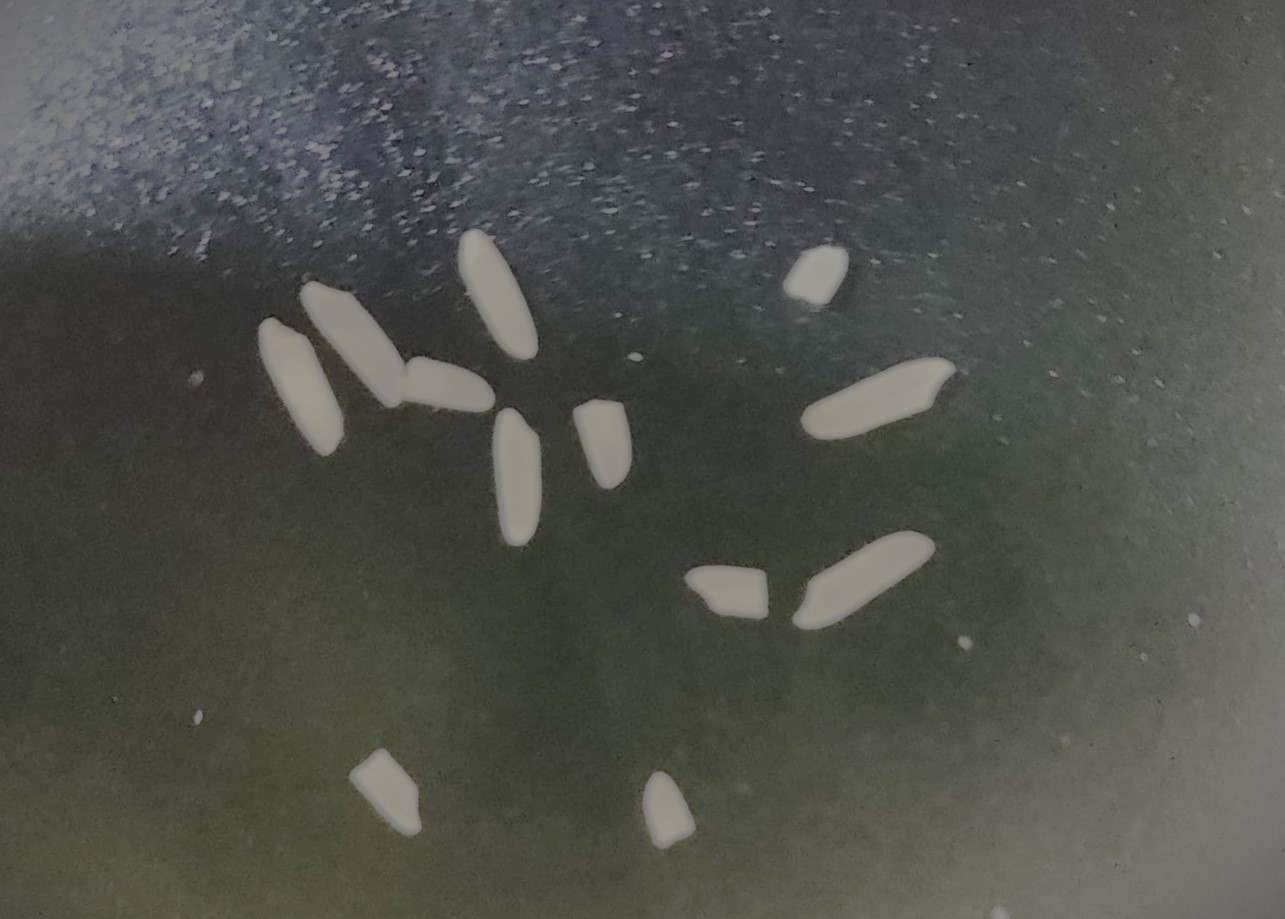broken_grain: (343, 743, 427, 840), (571, 396, 643, 500), (404, 351, 496, 425), (678, 561, 778, 629), (778, 237, 853, 314), (641, 767, 703, 855)
complete_grain: (787, 349, 963, 444), (250, 316, 354, 463), (298, 276, 409, 410), (790, 531, 943, 626), (453, 231, 552, 365), (490, 408, 549, 556)
